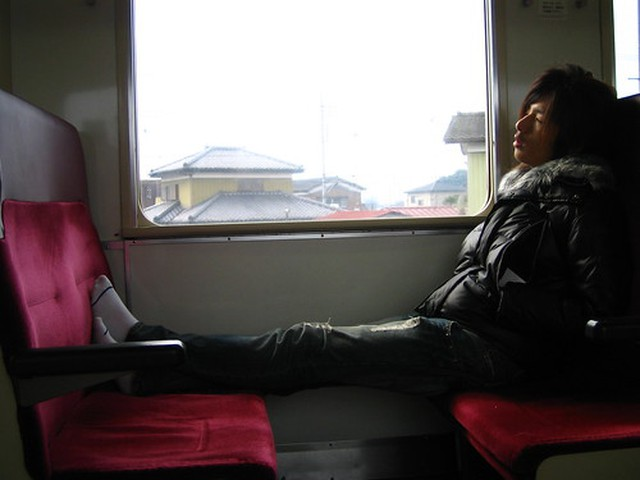Person: (194, 65, 631, 393)
